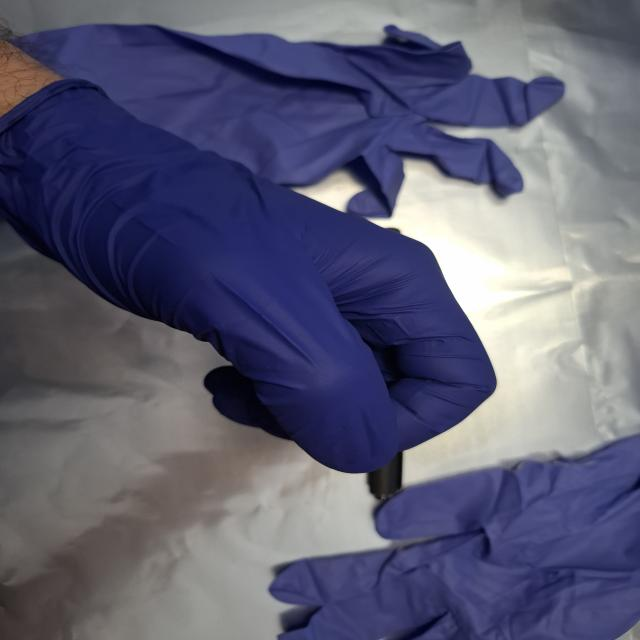glove_on: (0, 71, 504, 476)
